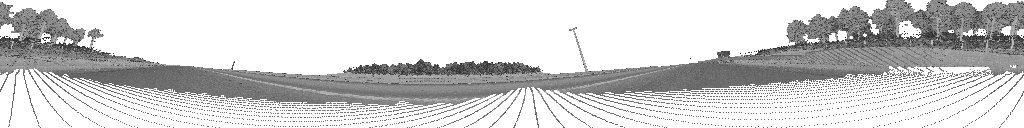light_pole: (569, 27, 588, 71), (229, 61, 236, 69)
